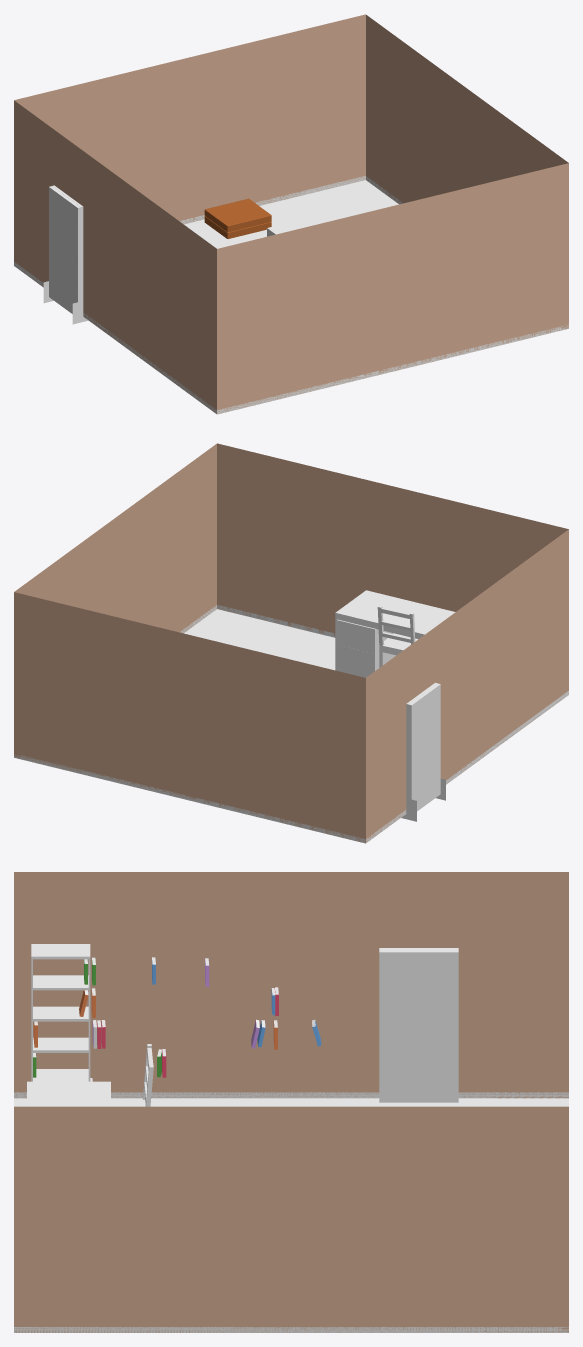
Rendered from TelegraphRoom.glb.
3 views of the same model, one above another, from view 1: azimuth 30°, elevation 25°; view 2: azimuth 150°, elevation 25°; view 3: azimuth 270°, elevation 25° (orthographic). The views are drawn at different scales.
Parts seen in each view (by area): view 1: Room, Floor, CTRL_Hole, Baseboard, suitcase; view 2: Room, table, Floor, CTRL_Hole, Baseboard, chair; view 3: Room, CTRL_Hole, Baseboard, shelves, Floor, table, chair.
Part boxes in pixels (bbox=[...]): Room: bbox=[14, 14, 568, 413]; Floor: bbox=[184, 180, 398, 248]; CTRL_Hole: bbox=[49, 186, 83, 313]; Baseboard: bbox=[14, 175, 568, 414]; suitcase: bbox=[204, 198, 271, 238]; Room: bbox=[14, 443, 568, 842]; table: bbox=[335, 590, 455, 677]; Floor: bbox=[184, 609, 335, 670]; CTRL_Hole: bbox=[406, 683, 440, 814]; Baseboard: bbox=[14, 604, 568, 843]; chair: bbox=[377, 606, 417, 667]; Room: bbox=[14, 872, 568, 1332]; CTRL_Hole: bbox=[379, 949, 458, 1102]; Baseboard: bbox=[14, 1092, 568, 1332]; shelves: bbox=[31, 944, 90, 1081]; Floor: bbox=[14, 1098, 568, 1106]; table: bbox=[27, 1081, 110, 1106]; chair: bbox=[111, 1044, 153, 1106].
Size of the model in its own units: 7.24 by 3.26 by 7.02.
